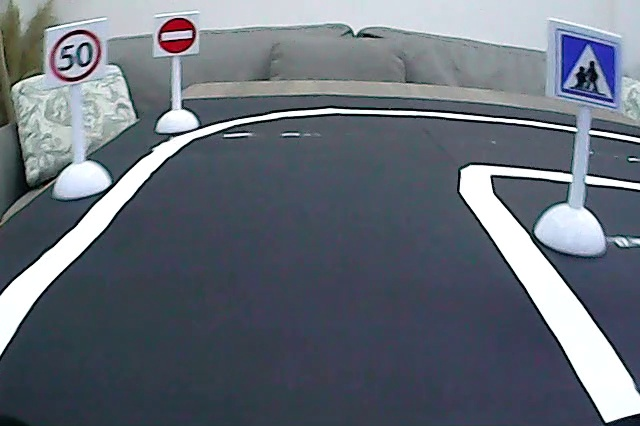do not enter: (156, 14, 198, 56)
school crossing: (554, 27, 618, 108)
speed limit 50: (48, 27, 107, 85)
